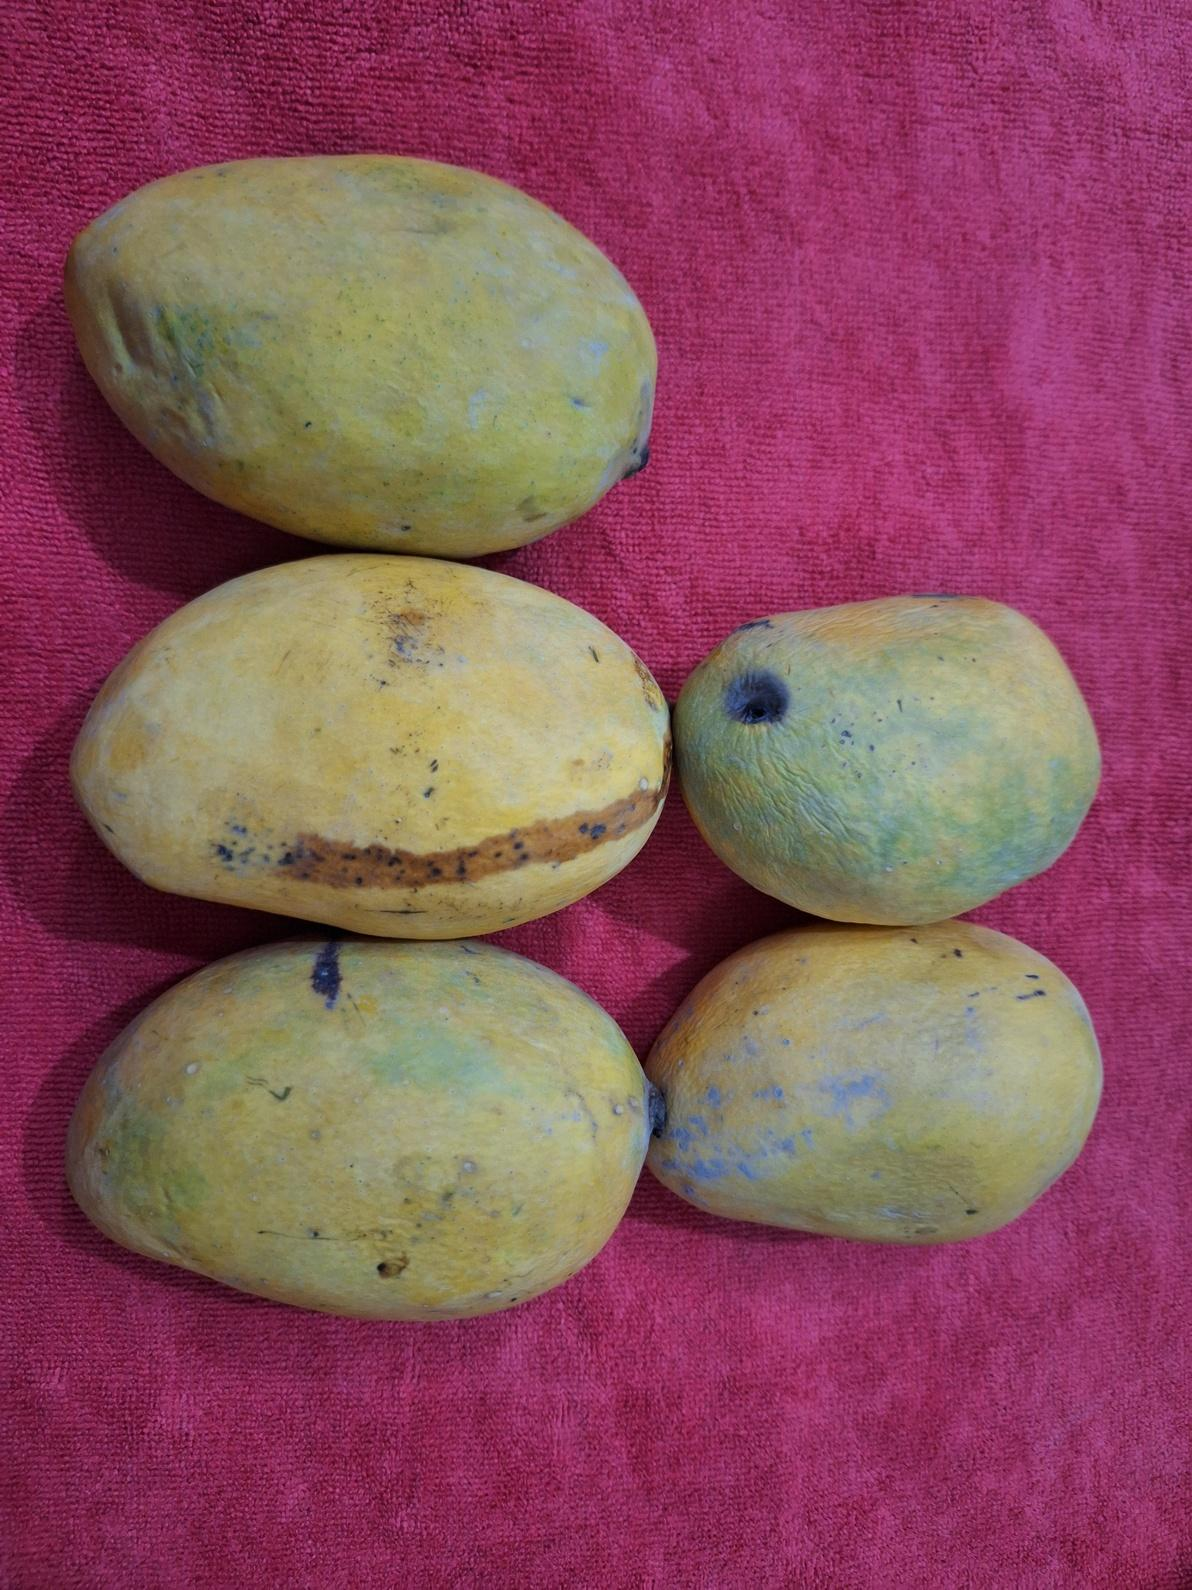mango: (63, 150, 659, 557), (68, 550, 672, 939), (63, 934, 662, 1322), (644, 916, 1104, 1244), (672, 591, 1102, 926)
